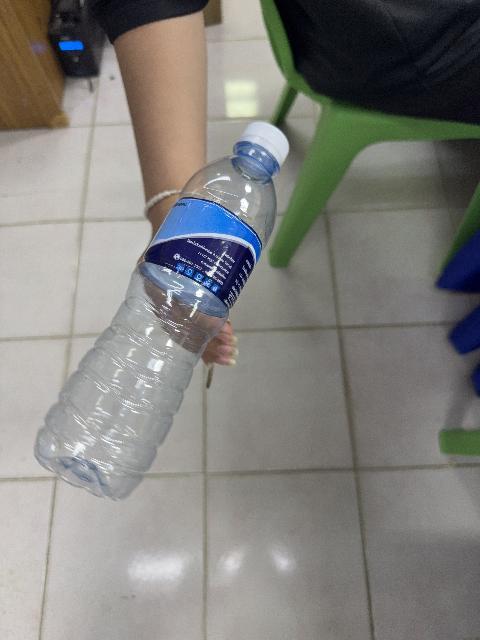bottle: (35, 123, 288, 499)
